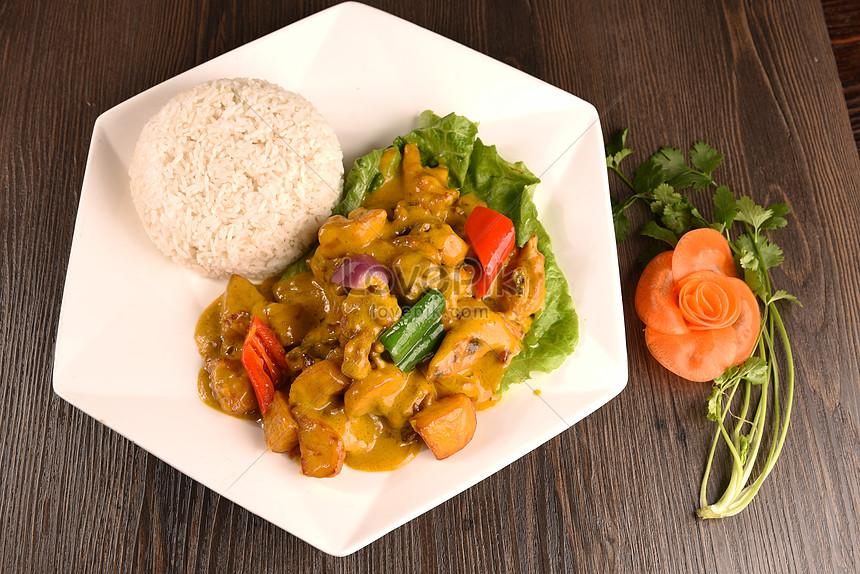buah_sayur_lainnya: (437, 142, 503, 184)
daging: (230, 288, 511, 406)
makanan_berpati: (163, 121, 307, 224)
